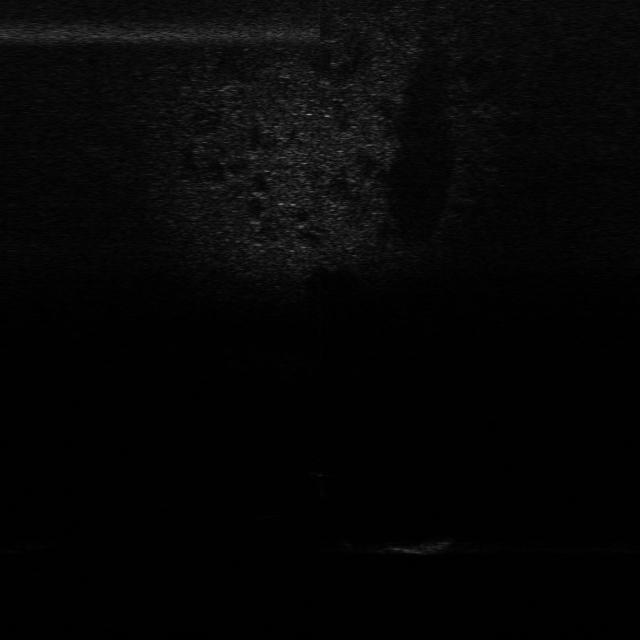metal bucket: (342, 524, 456, 556)
